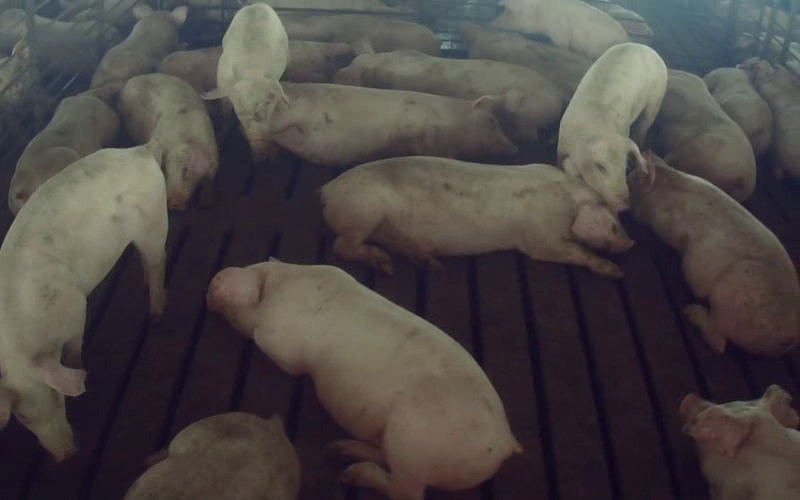pig: (207, 261, 519, 499), (0, 142, 166, 459), (321, 156, 631, 276), (629, 153, 799, 354), (335, 50, 565, 143), (270, 83, 516, 166), (557, 43, 667, 211), (8, 84, 119, 214), (650, 69, 755, 201), (118, 73, 217, 209), (209, 3, 288, 159), (463, 23, 591, 96), (90, 4, 187, 90), (493, 0, 629, 59), (742, 59, 799, 177), (704, 68, 771, 157)
